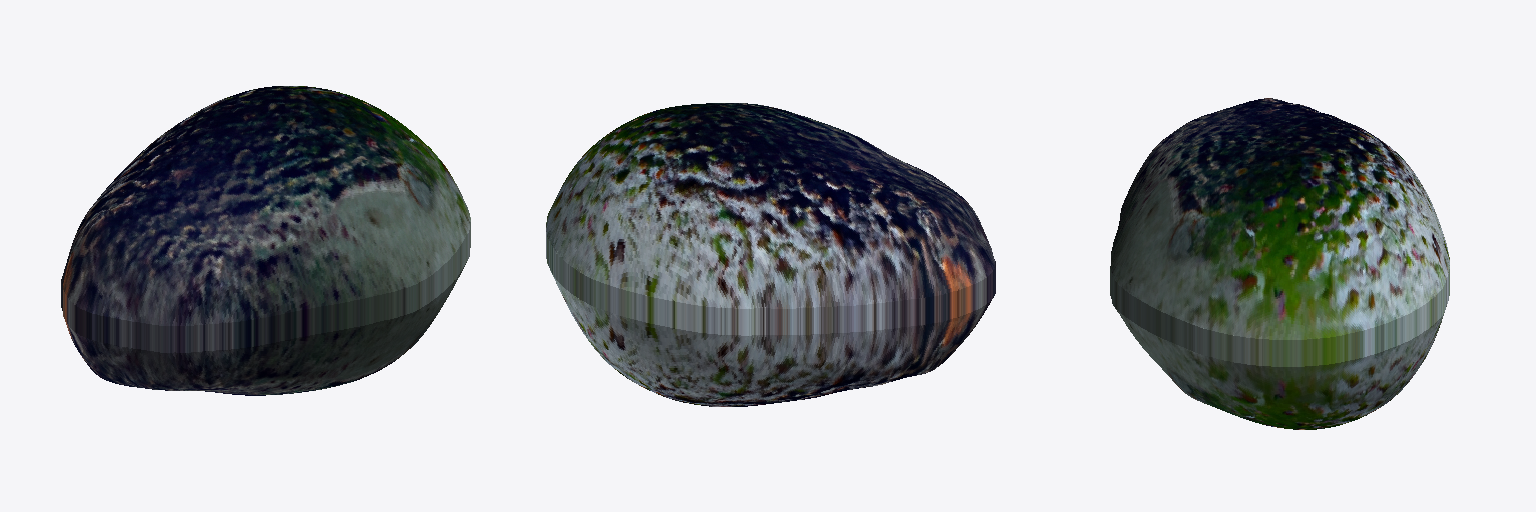
3 renders of one model, left to right at view 1: azimuth 30°, elevation 25°; view 2: azimuth 150°, elevation 25°; view 3: azimuth 270°, elevation 25°, orthographic.
Visible parts, largest first — view 1: Grid; view 2: Grid; view 3: Grid.
Boxes of the visible parts, x1=… form: Grid: x1=61, y1=86, x2=470, y2=395; Grid: x1=546, y1=103, x2=995, y2=406; Grid: x1=1110, y1=98, x2=1449, y2=429.
Size of the model in its own units: 1.88 by 1.2 by 1.38.
Materials: 1 (1 with a texture image).